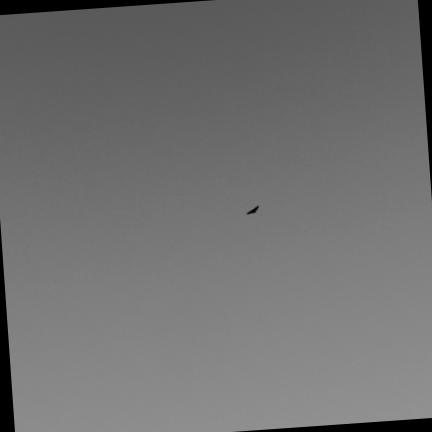Shahed: (246, 205, 258, 214)
